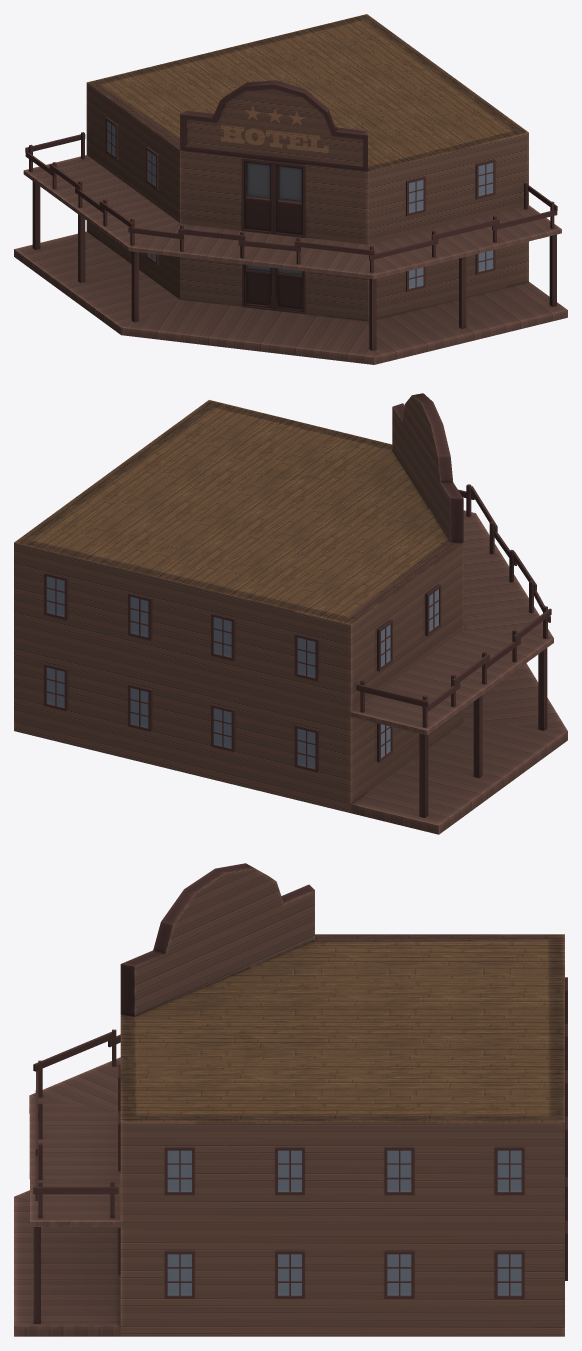
Rendered from Building_13.fbx.
3 renders of one model, top to bottom at view 1: azimuth 30°, elevation 25°; view 2: azimuth 150°, elevation 25°; view 3: azimuth 270°, elevation 25°, orthographic. The views are drawn at different scales.
Parts seen in each view (by area): view 1: Building_13; view 2: Building_13; view 3: Building_13.
Boxes of the visible parts, x1,y1,x2,y2 form: Building_13: [14, 14, 567, 364]; Building_13: [14, 393, 567, 834]; Building_13: [14, 863, 567, 1336].
Bounding box in the file's own units: 433 × 428 × 273.
1 material, 1 textured.
